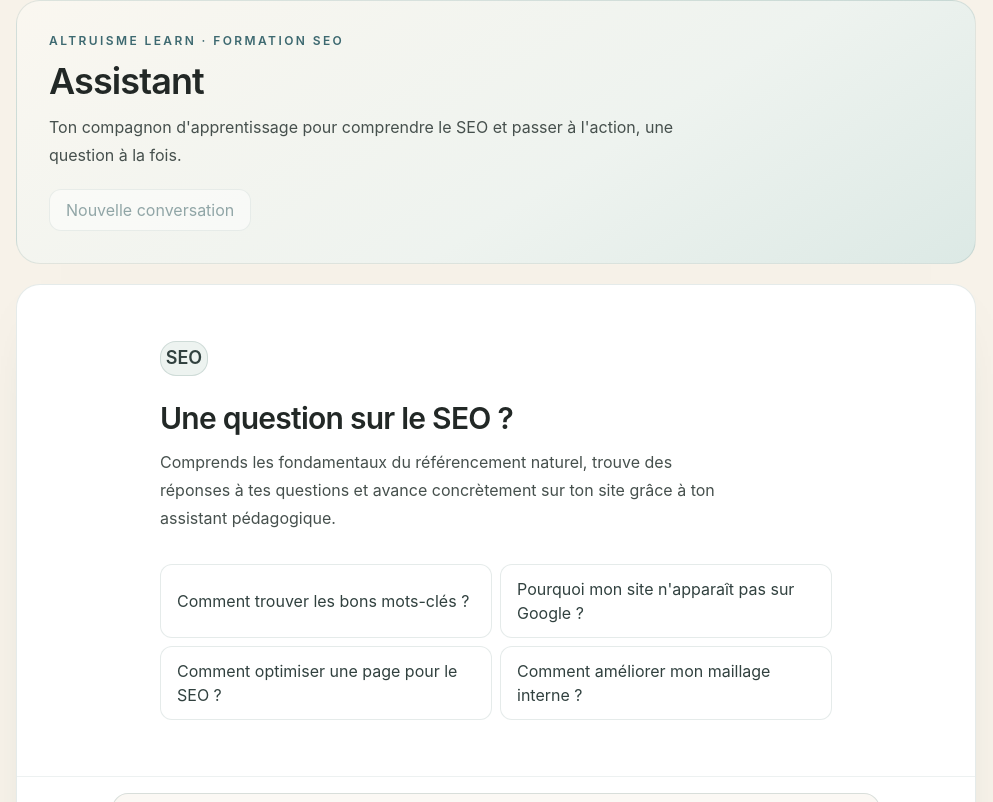
Test: Assistant › envoie une suggestion et affiche la réponse Markdown
This screenshot has width=993, height=802.
What coordinates should you click on to do the following:
click the button "Comment trouver les bons mots-clés ?"
I would click on:
 (326, 601)
Its box is [160,564,492,638].
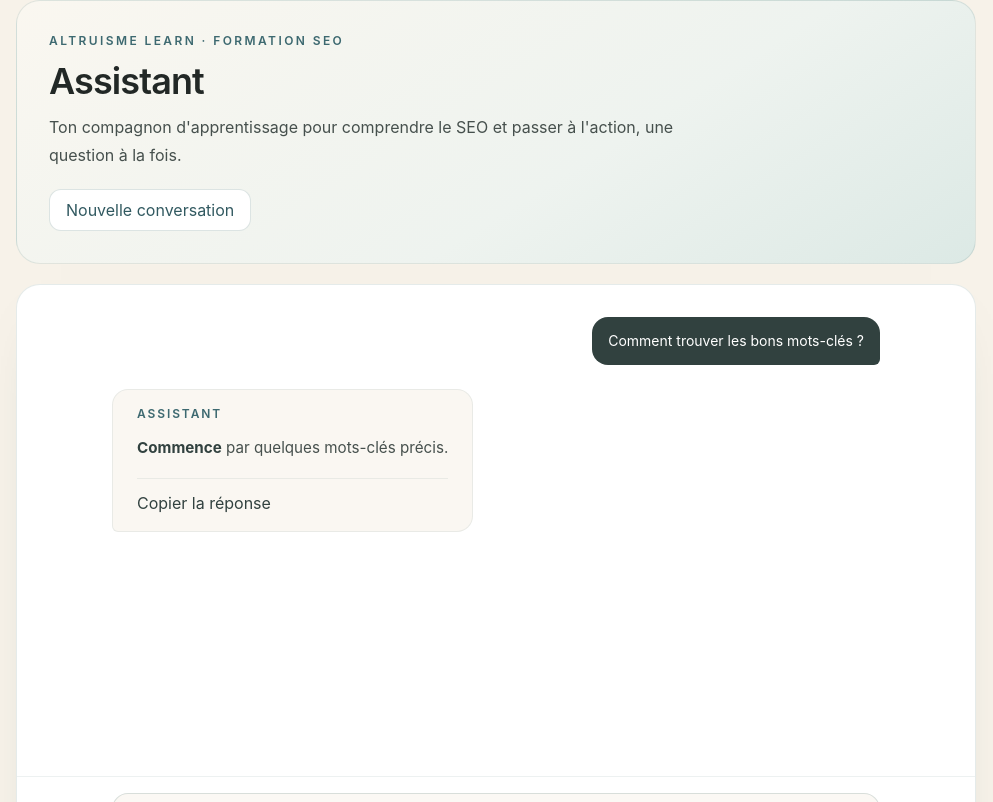
Expected: the text "Nouvelle conversation" is shown, [49,189,251,231]
Result: the text "Commence par quelques mots-clés précis." is shown at [137,434,448,462]
Result: the text "Commence" is shown at [137,438,222,457]
